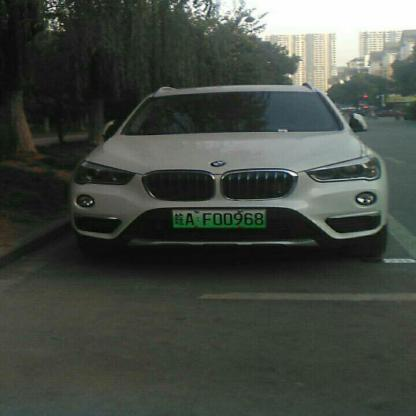lp: (172, 208, 266, 227)
